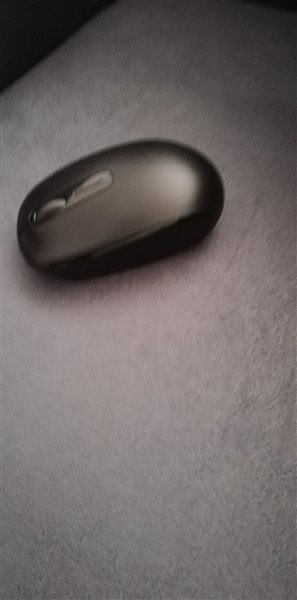mouse: (14, 134, 237, 289)
